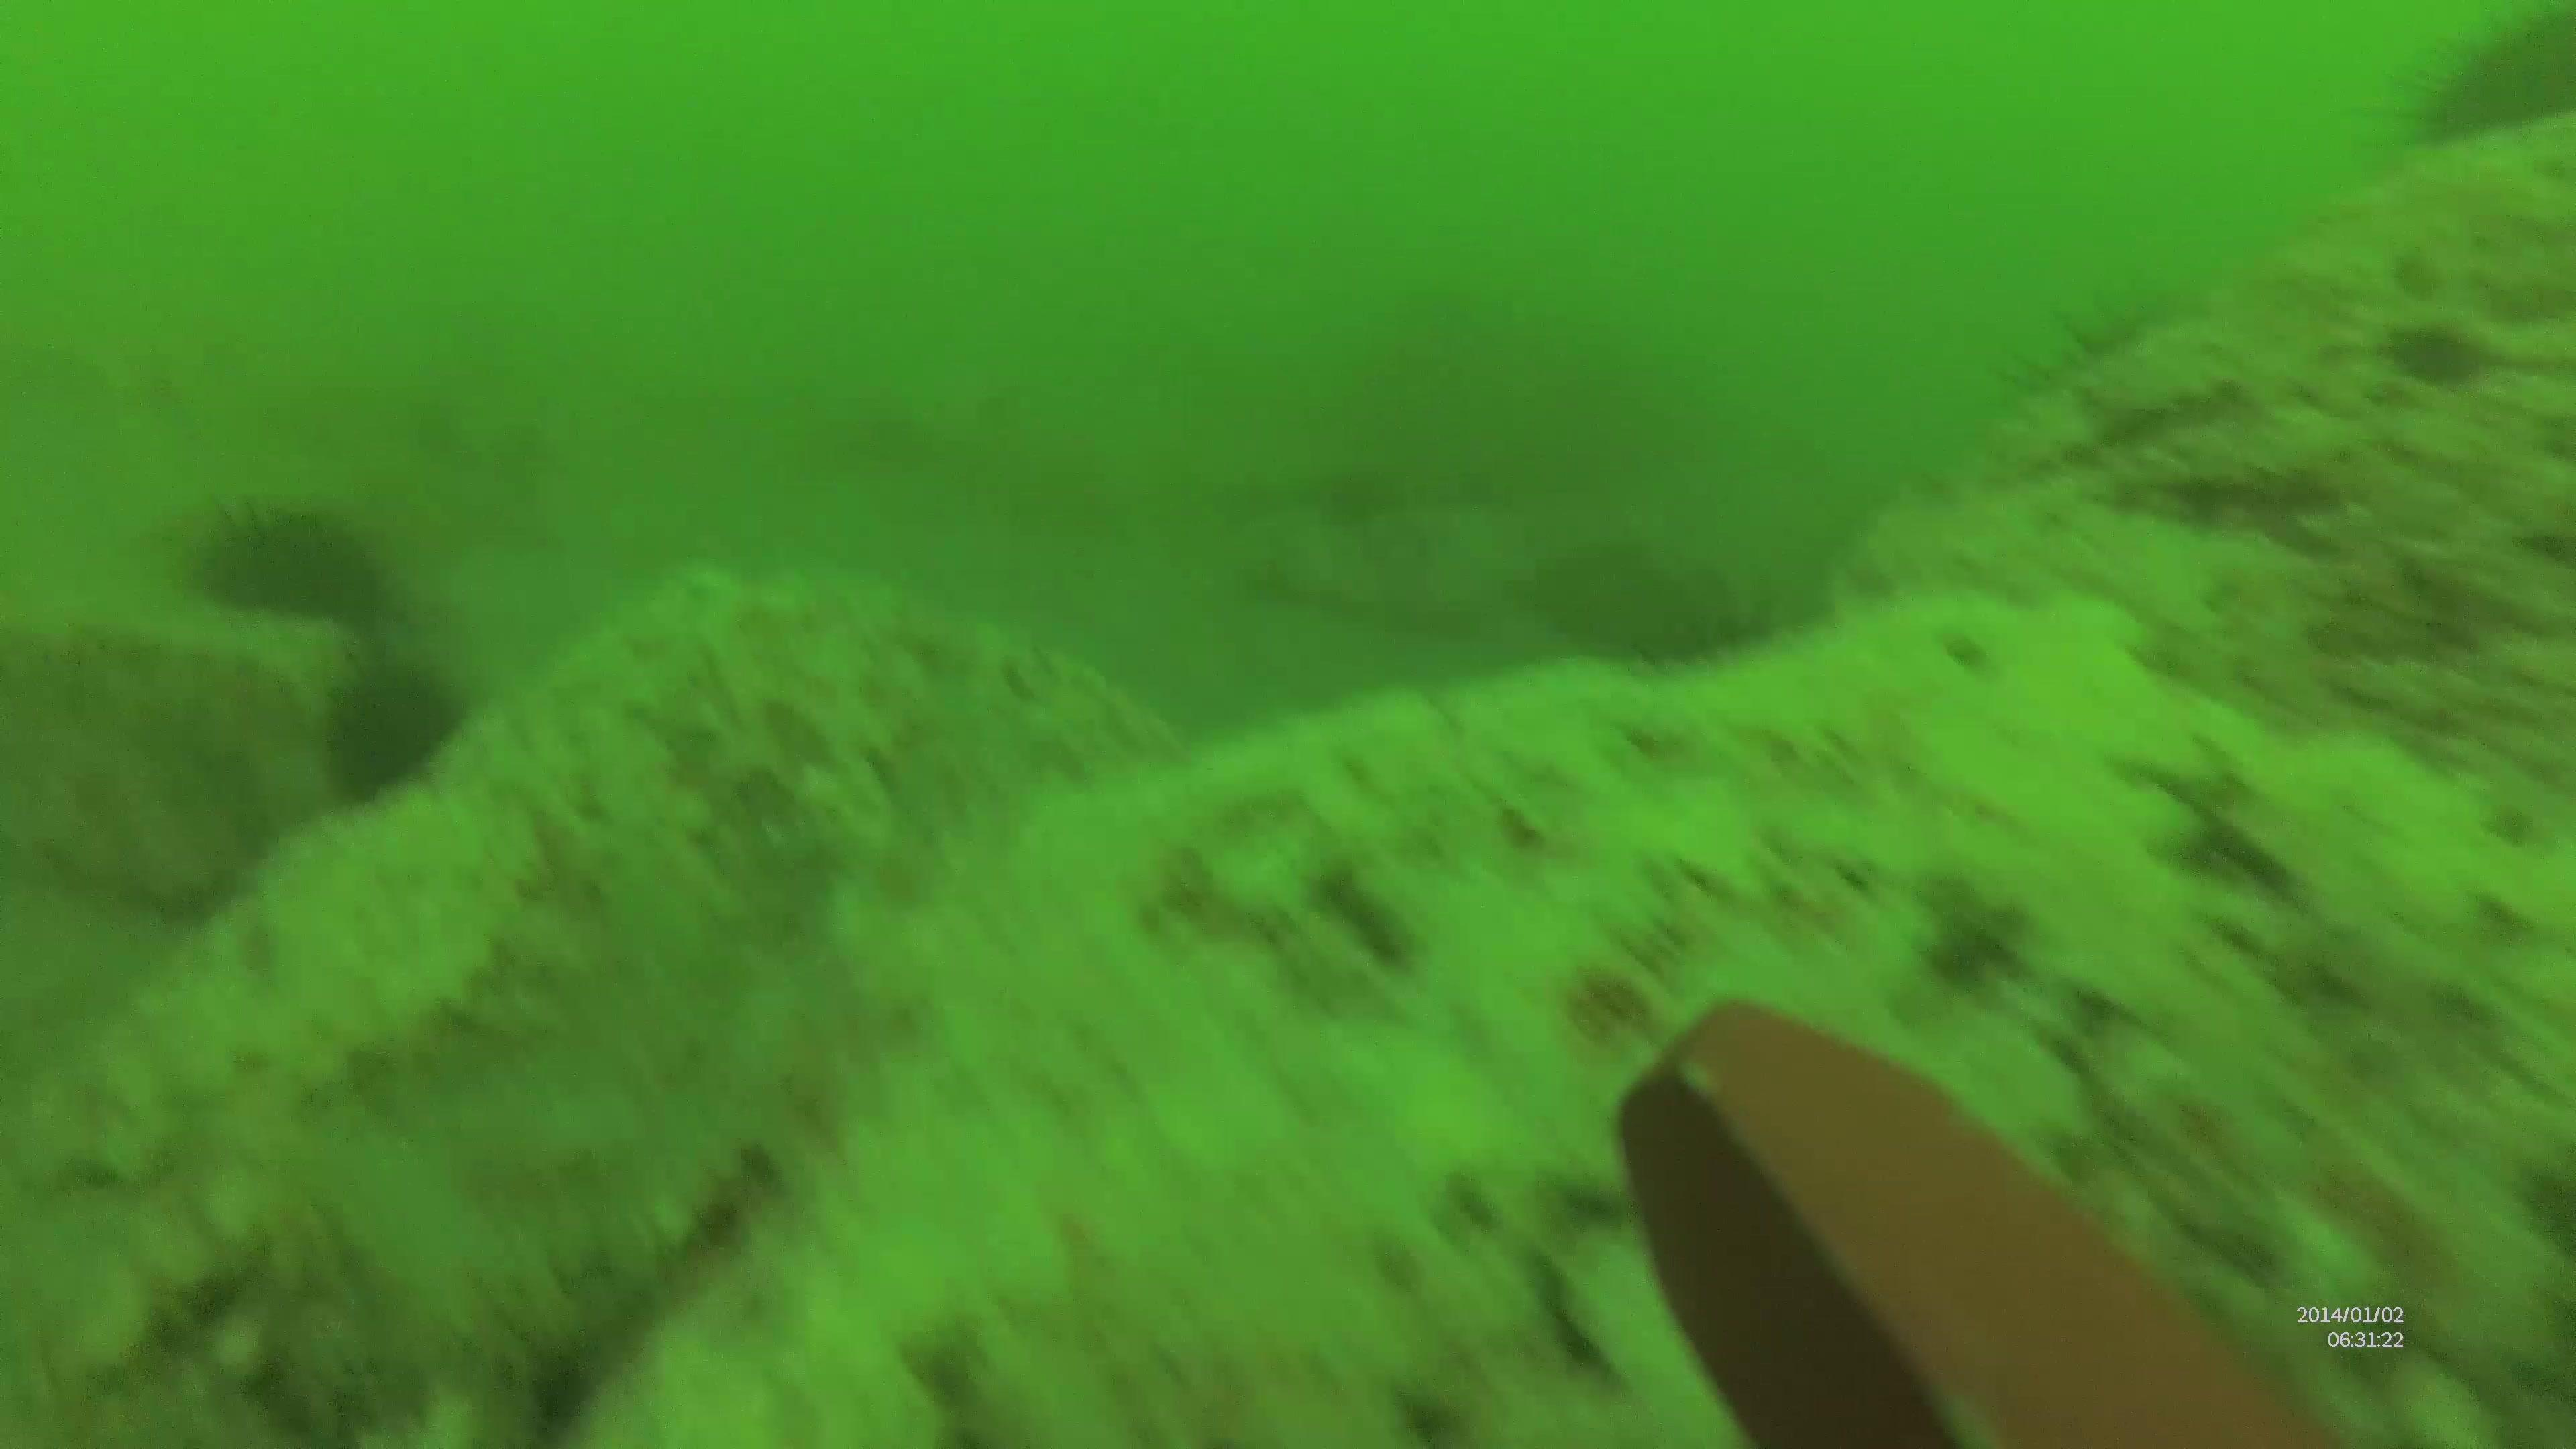echinus: (2367, 4, 2576, 147), (180, 502, 403, 626), (327, 639, 464, 828)
